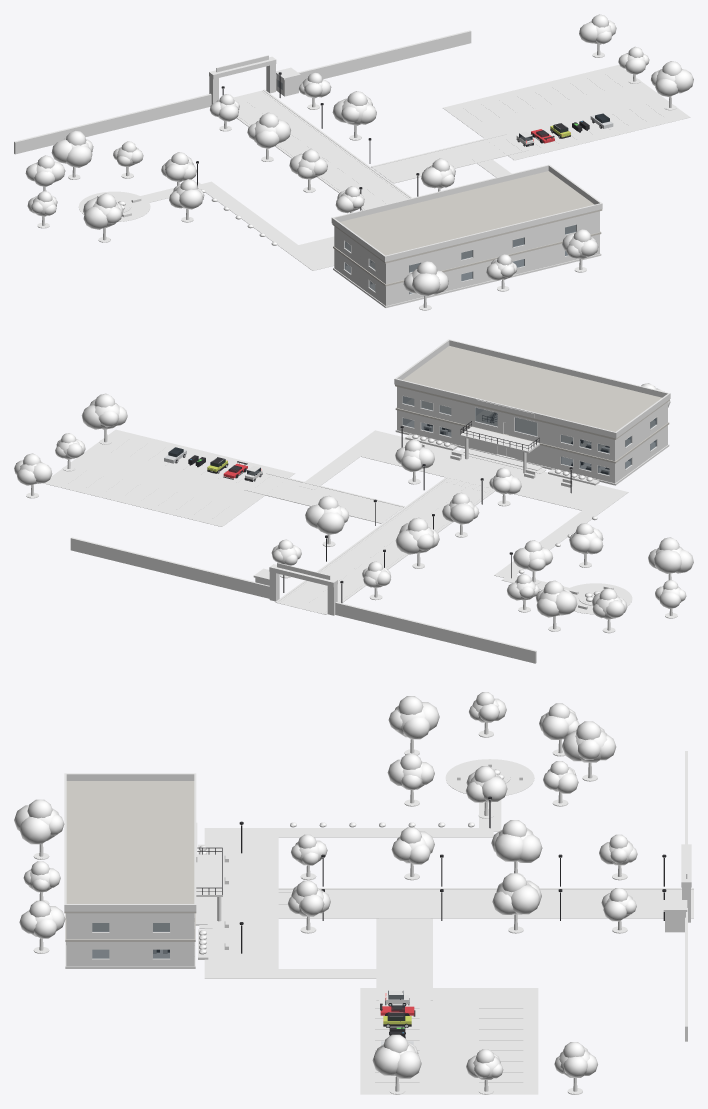
Rendered from campus_full.glb.
3 renders of one model, top to bottom at view 1: azimuth 30°, elevation 25°; view 2: azimuth 150°, elevation 25°; view 3: azimuth 270°, elevation 25°, orthographic. The views are drawn at different scales.
Parts seen in each view (by area): view 1: Parking_Area, Roof_Main, Road_Main, Wall_1_Back, Boundary_Wall_L, Wall_G_Back, Boundary_Wall_R, Road_Branch_Parking, Parapet_Back, Parapet_Front, Walkway_Garden_A, Plaza_Front (+26 smaller); view 2: Parking_Area, Roof_Main, Road_Main, Plaza_Front, Wall_1_Front, Wall_G_Front, Boundary_Wall_L, Boundary_Wall_R, Road_Branch_Parking, Parapet_Back, Parapet_Front, Tree_5_Crown (+25 smaller); view 3: Roof_Main, Parking_Area, Plaza_Front, Road_Main, Road_Branch_Parking, Wall_1_Right, Wall_G_Right, Walkway_Garden_A, Tree_11_Crown, Tree_14_Crown, Tree_2_Crown, Tree_17_Crown (+24 smaller).
Boxes of the visible parts, x1,y1,x2,y2 form: Parking_Area: (443,65,690,160); Roof_Main: (332,171,602,263); Road_Main: (233,90,410,209); Wall_1_Back: (385,211,599,284); Boundary_Wall_L: (14,93,211,154); Wall_G_Back: (385,234,599,305); Boundary_Wall_R: (276,30,471,90); Road_Branch_Parking: (372,139,505,182); Parapet_Back: (384,203,602,261); Parapet_Front: (331,164,549,222); Walkway_Garden_A: (200,181,297,250); Plaza_Front: (283,236,334,270); Parking_Area: (43,429,294,526); Roof_Main: (395,346,669,439); Road_Main: (277,478,493,614); Plaza_Front: (345,430,628,514); Wall_1_Front: (397,387,615,461); Wall_G_Front: (397,410,615,483); Boundary_Wall_L: (335,602,536,663); Boundary_Wall_R: (70,537,269,598); Road_Branch_Parking: (267,479,403,522); Parapet_Back: (448,339,670,398); Parapet_Front: (394,378,616,438); Tree_5_Crown: (305,495,349,534); Roof_Main: (64,781,196,913); Parking_Area: (360,988,538,1094); Plaza_Front: (204,828,278,978); Road_Main: (278,889,693,916); Road_Branch_Parking: (379,919,430,987); Wall_1_Right: (68,913,192,939); Wall_G_Right: (68,942,192,966); Walkway_Garden_A: (271,828,493,837); Tree_11_Crown: (562,721,616,762); Tree_14_Crown: (14,799,64,844); Tree_2_Crown: (491,820,542,862); Tree_17_Crown: (372,1034,421,1078).
Size of what is drawn, in the model's own units: 120 by 9.63 by 91.7.
